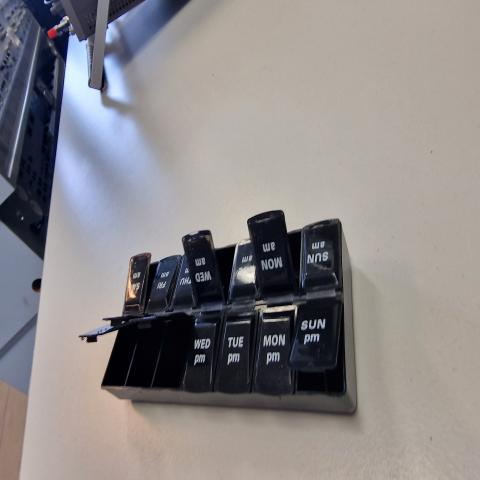Open: (126, 316, 194, 390), (296, 306, 344, 392), (119, 321, 157, 386), (97, 329, 135, 387), (209, 232, 234, 303), (282, 211, 302, 294), (144, 256, 159, 311)
